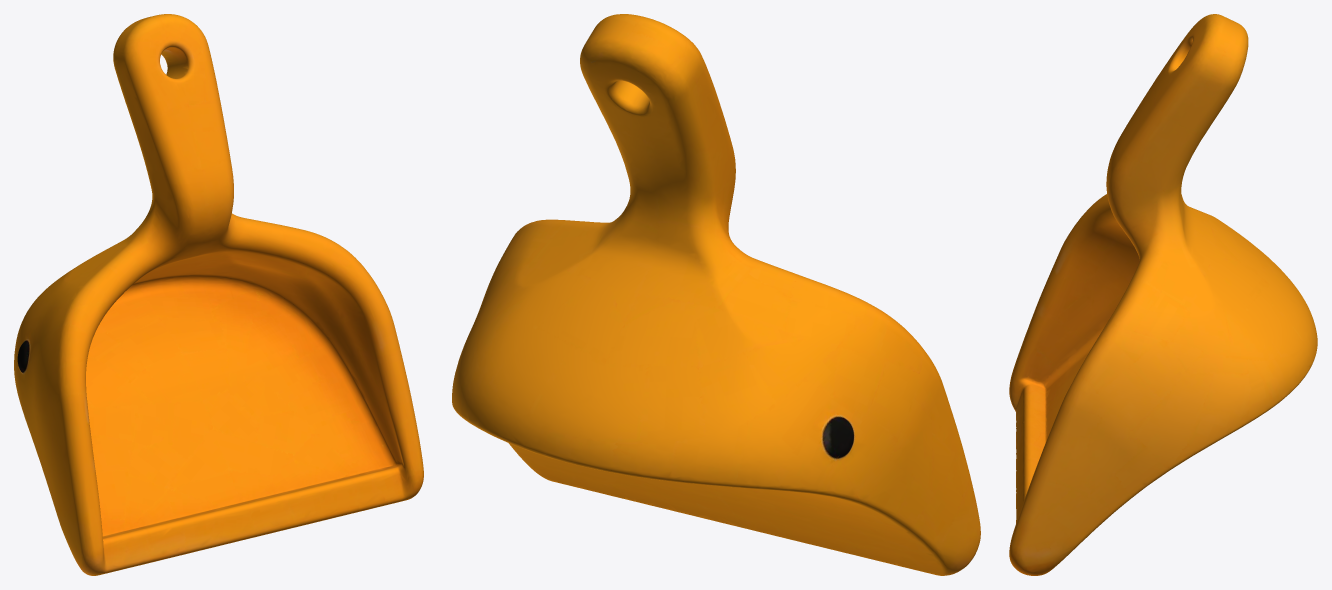
Rendered from dustpan.glb.
The picture shows the model from 3 angles, left to right: view 1: azimuth 30°, elevation 25°; view 2: azimuth 150°, elevation 25°; view 3: azimuth 270°, elevation 25°; orthographic projection. The views are drawn at different scales.
Size of the model in its own units: 1.48 by 1.9 by 1.11.
1 material, 1 textured.
